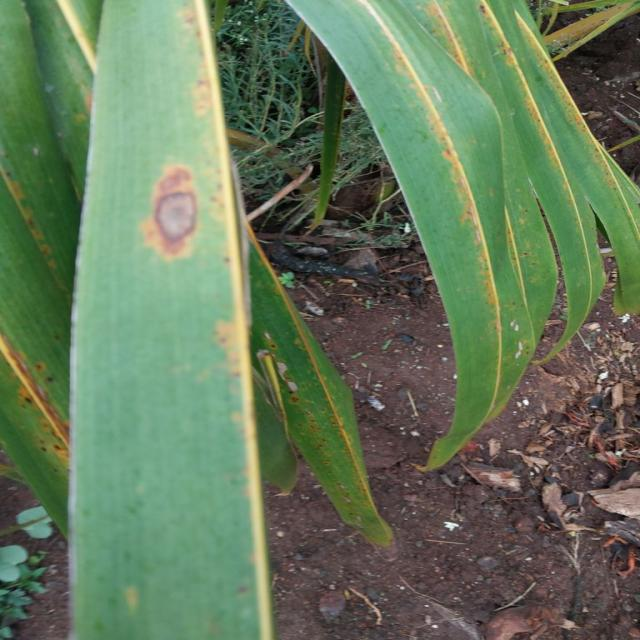gray leaf spot: (110, 110, 239, 400)
